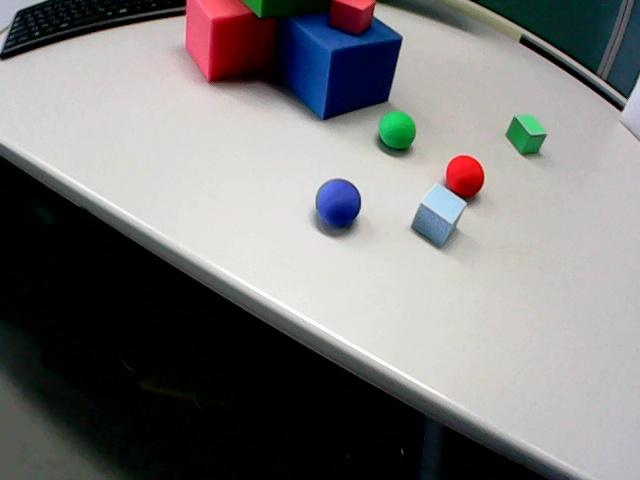blue_block: (277, 14, 401, 118), (412, 184, 466, 246)
red_block: (186, 0, 276, 81), (329, 0, 375, 34)
